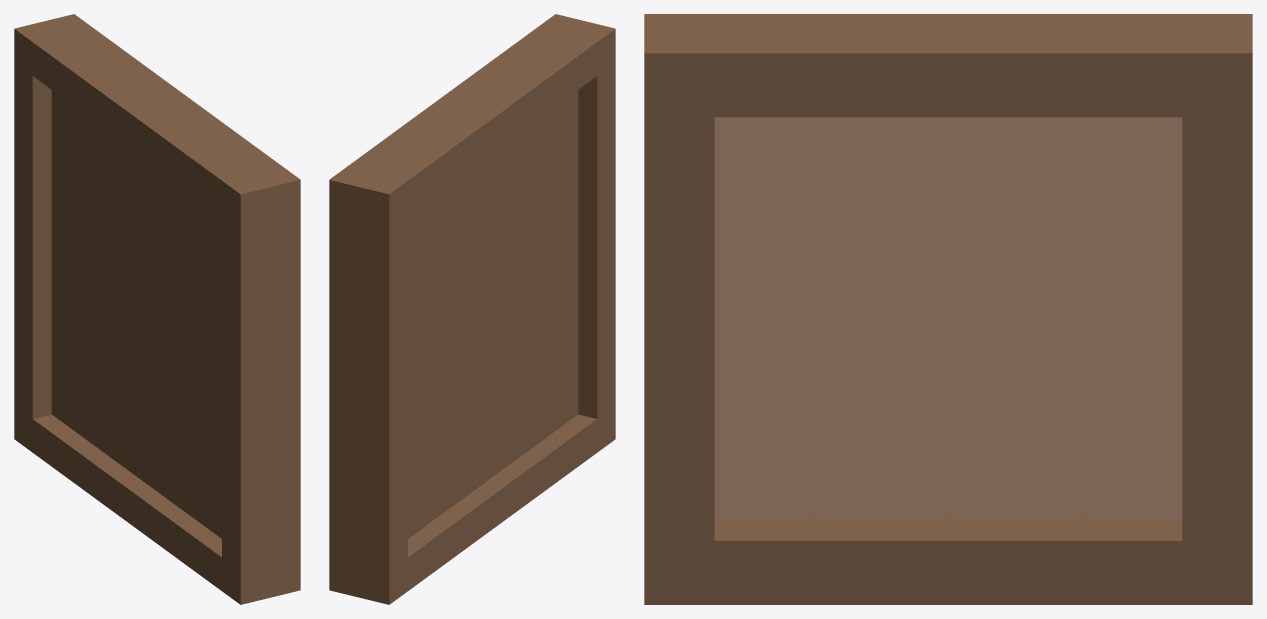
File: Wood Large Crate Open Lid.fbx
3 renders of one model, left to right at view 1: azimuth 30°, elevation 25°; view 2: azimuth 150°, elevation 25°; view 3: azimuth 270°, elevation 25°, orthographic. The views are drawn at different scales.
Visible parts, largest first — view 1: Wooden_Open_Crate_Large_Lid; view 2: Wooden_Open_Crate_Large_Lid; view 3: Wooden_Open_Crate_Large_Lid.
Boxes of the visible parts, box(x1,y1,x2,y2) form: Wooden_Open_Crate_Large_Lid: box(14, 14, 300, 604); Wooden_Open_Crate_Large_Lid: box(329, 14, 615, 604); Wooden_Open_Crate_Large_Lid: box(644, 14, 1252, 604).
Size of the model in its own units: 28.18 by 184 by 184.
